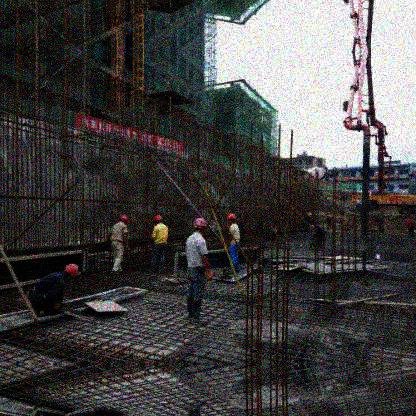helmet: (60, 261, 80, 280), (193, 217, 208, 235), (118, 212, 131, 227), (152, 213, 164, 225), (228, 213, 237, 226)
